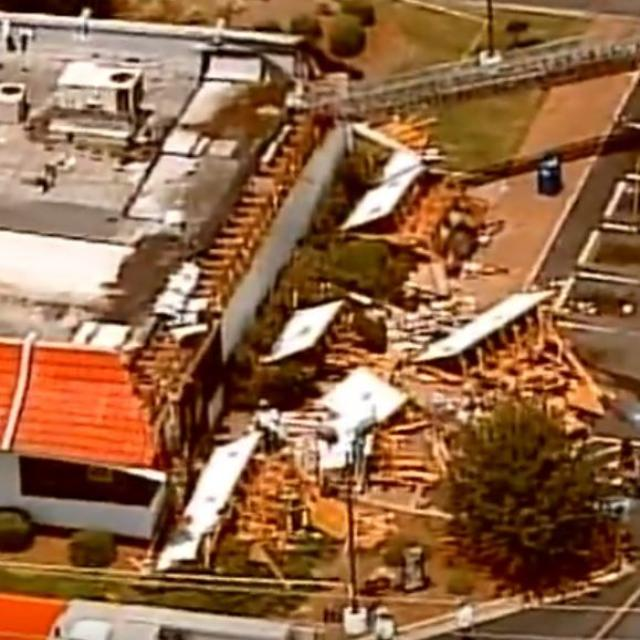collapsed_building: (120, 28, 463, 579)
